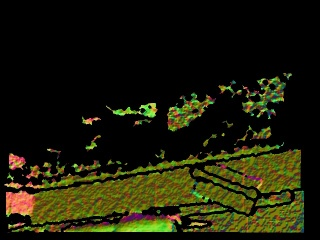station: (189, 161, 264, 215)
